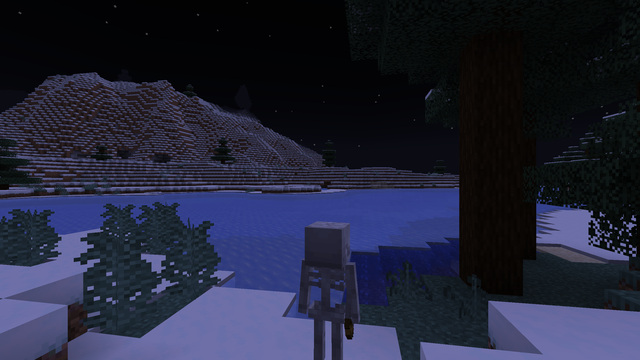squelettes: (301, 221, 350, 357)
